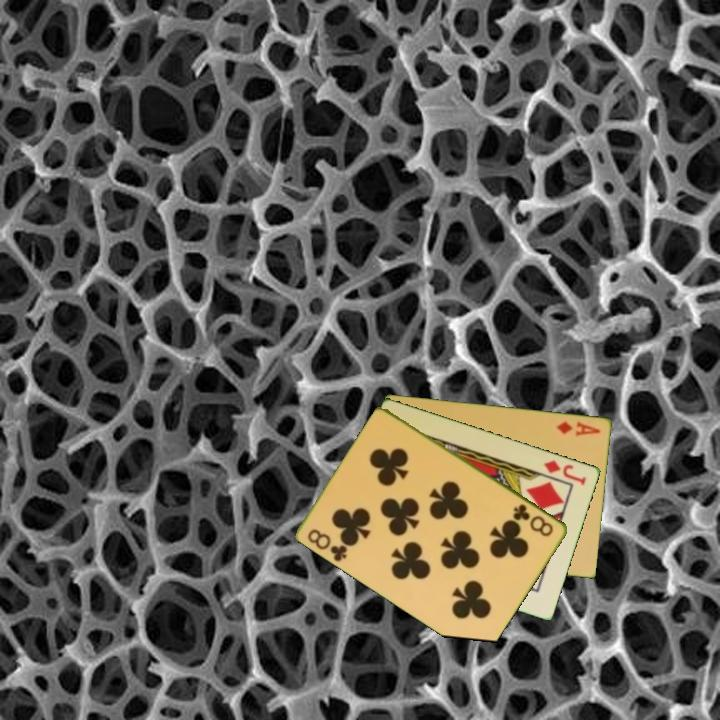8c: (304, 525, 351, 565), (510, 500, 557, 539)
Ad: (553, 418, 603, 439)
Jd: (541, 456, 589, 488)
